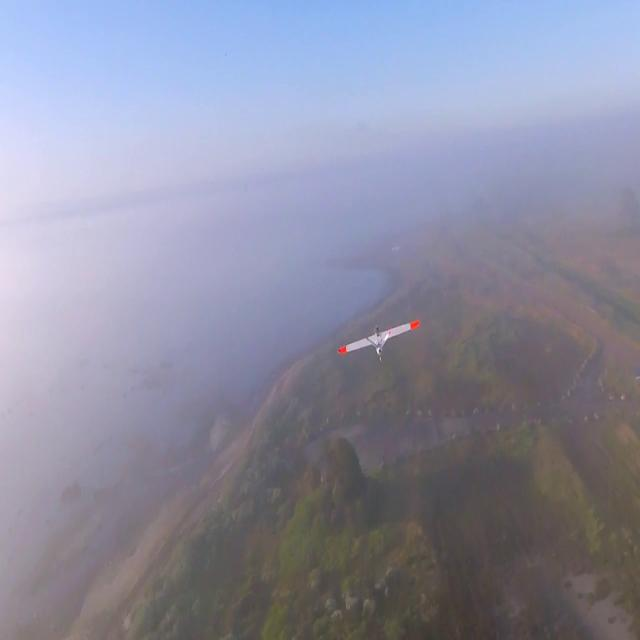iha: (371, 317, 387, 362)
